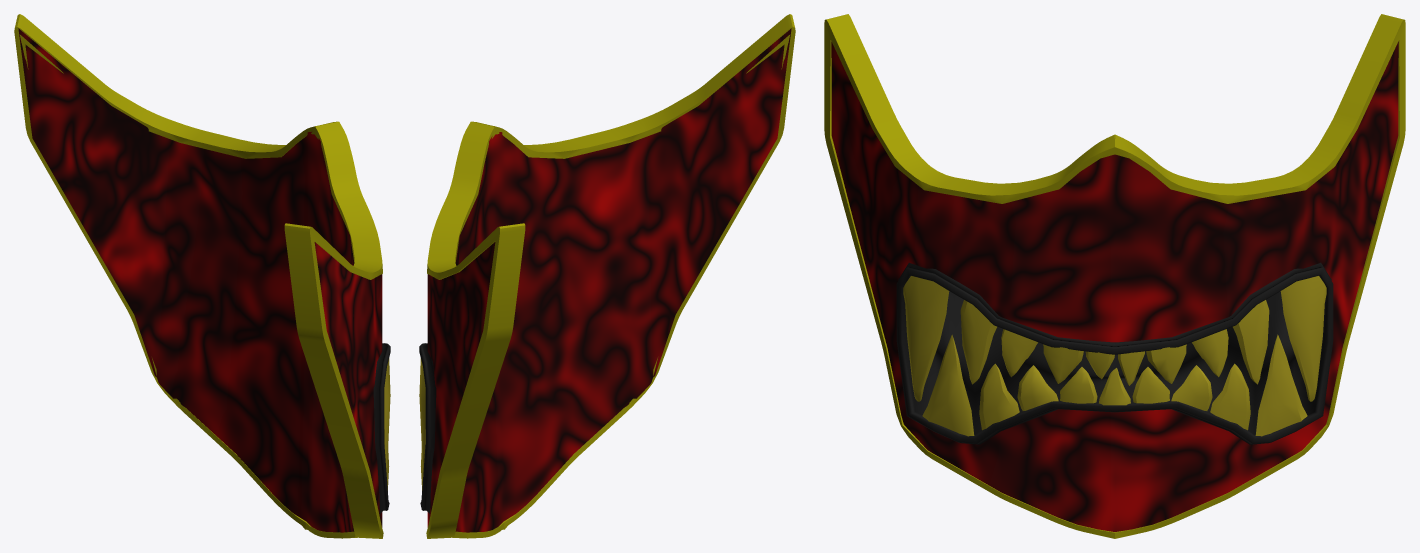
The model's file is oni.glb.
3 views of the same model, side by side, from view 1: azimuth 30°, elevation 25°; view 2: azimuth 150°, elevation 25°; view 3: azimuth 270°, elevation 25° (orthographic).
Visible parts, largest first — view 1: Plane, Plane.002, Plane.001, Cone.012; view 2: Plane, Plane.002, Plane.001, Cone.012; view 3: Plane, Plane.002, Plane.001, Cone.012, Cone.014, Cone.013, Cone.017, Cone.016, Cone.015, Cone, Cone.009, Cone.011.
Boxes of the visible parts, <box> form: Plane: <box>18,28,382,532</box>; Plane.002: <box>14,14,383,538</box>; Plane.001: <box>373,343,390,513</box>; Cone.012: <box>384,358,390,476</box>; Plane: <box>427,28,791,532</box>; Plane.002: <box>426,14,795,538</box>; Plane.001: <box>419,343,436,513</box>; Cone.012: <box>419,358,425,476</box>; Plane: <box>831,41,1398,531</box>; Plane.002: <box>824,14,1405,538</box>; Plane.001: <box>896,262,1333,444</box>; Cone.012: <box>903,276,1326,401</box>; Cone.014: <box>922,334,1307,436</box>; Cone.013: <box>960,300,1269,384</box>; Cone.017: <box>979,363,1250,430</box>; Cone.016: <box>1017,365,1212,410</box>; Cone.015: <box>1001,329,1228,377</box>; Cone: <box>1043,344,1186,383</box>; Cone.009: <box>1060,367,1169,403</box>; Cone.011: <box>1099,368,1130,405</box>.
Size of the model in its own units: 0.8545 by 1.86 by 2.22.
5 materials, 1 textured.
